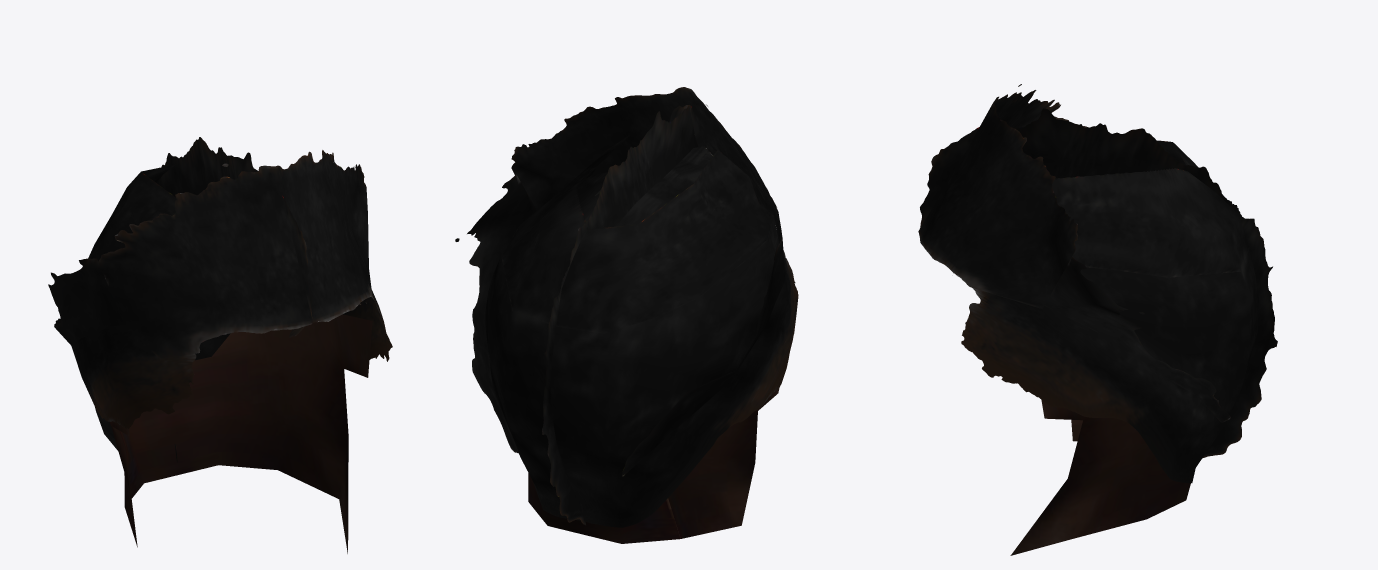
File: eng-saka.glb
3 views of the same model, side by side, from view 1: azimuth 30°, elevation 25°; view 2: azimuth 150°, elevation 25°; view 3: azimuth 270°, elevation 25° (orthographic).
Visible parts, largest first — view 1: hair; view 2: hair; view 3: hair.
Part boxes in pixels (x1,y1,x2,y2): hair: (48, 137, 392, 553); hair: (455, 87, 798, 543); hair: (918, 84, 1277, 555).
Bounding box in the file's own units: 0.1925 × 0.2839 × 0.2734.
Materials: 2 (2 with a texture image).
